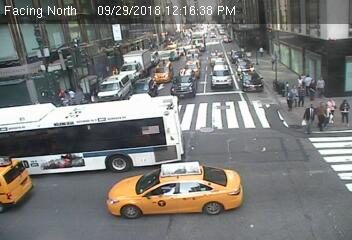car: (1, 94, 181, 167), (107, 168, 246, 217), (1, 155, 32, 211), (120, 47, 150, 81), (98, 73, 129, 100), (169, 70, 195, 96), (130, 79, 157, 98), (210, 65, 230, 89), (242, 72, 262, 96), (155, 62, 173, 83), (183, 60, 202, 78), (235, 58, 256, 72), (228, 50, 246, 59), (221, 36, 233, 45), (209, 31, 218, 39)
